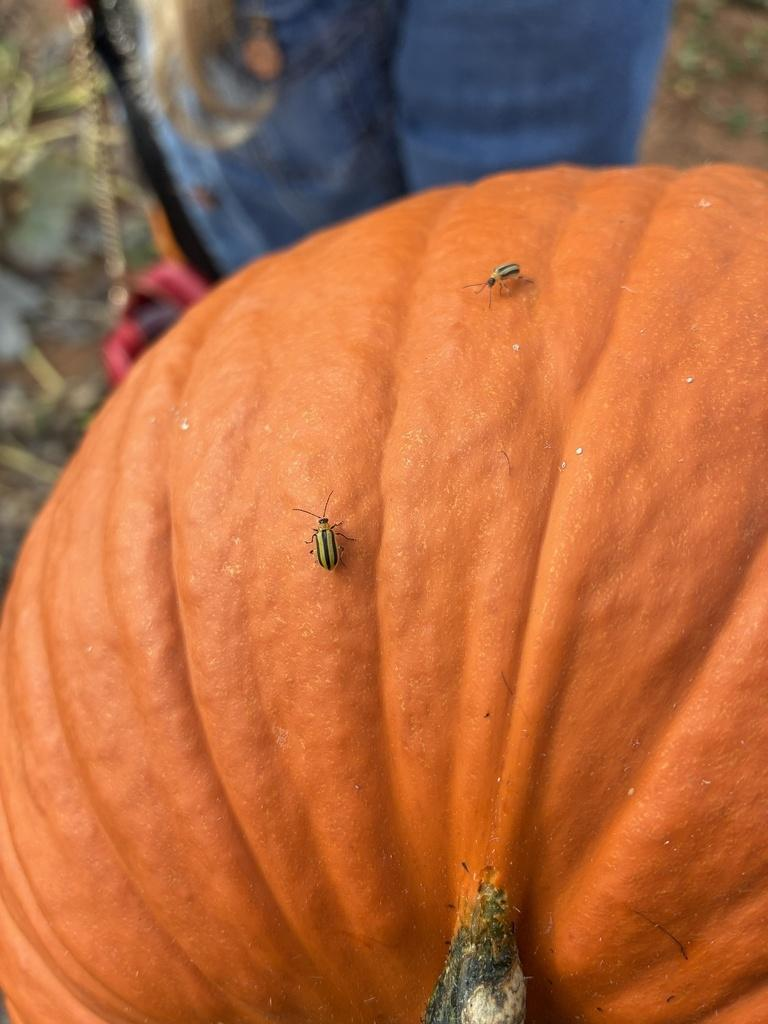potato_beetle: (270, 477, 364, 599), (450, 233, 549, 319)
